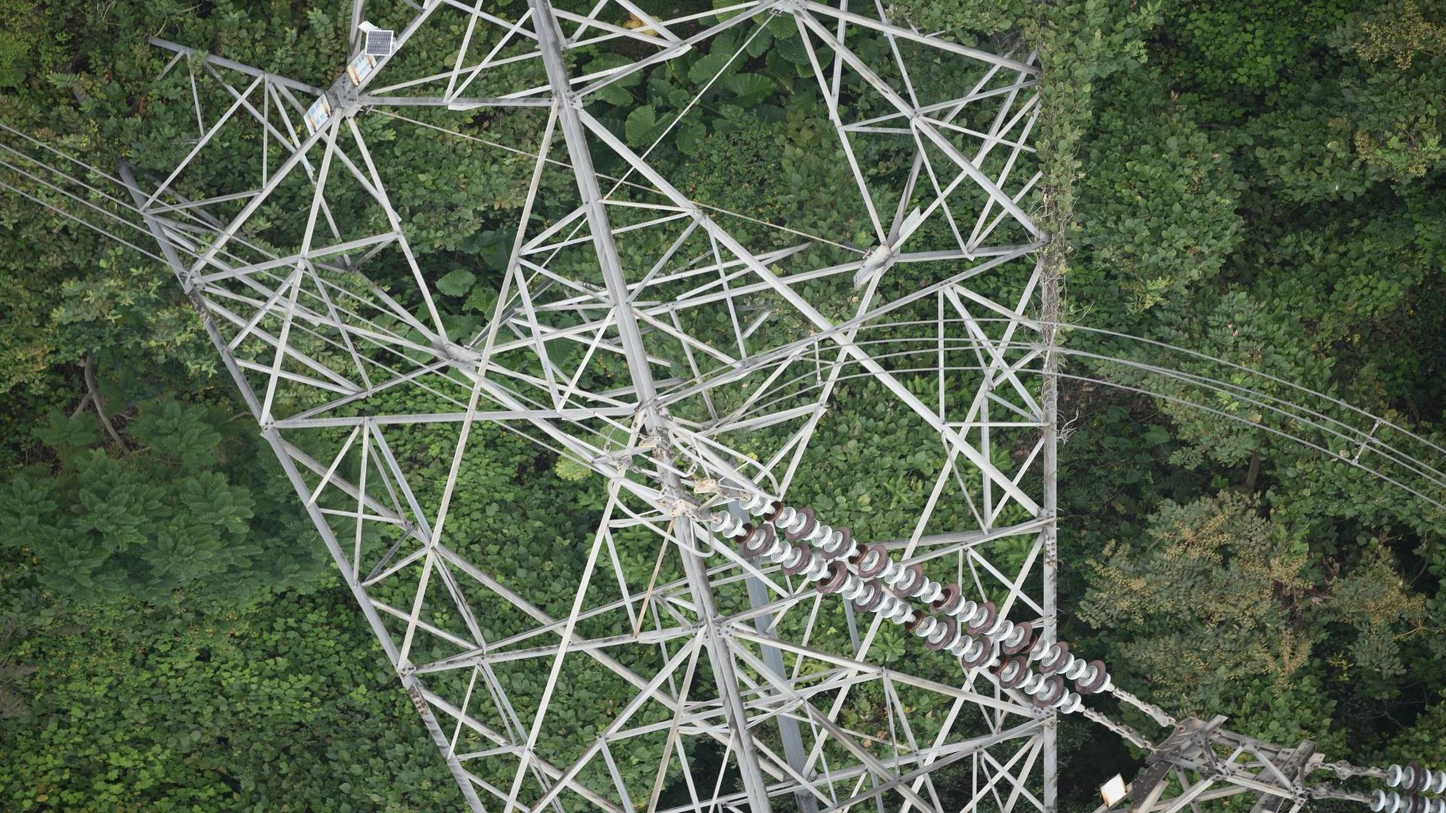insulator: (705, 476, 1110, 718), (1366, 762, 1446, 813)
